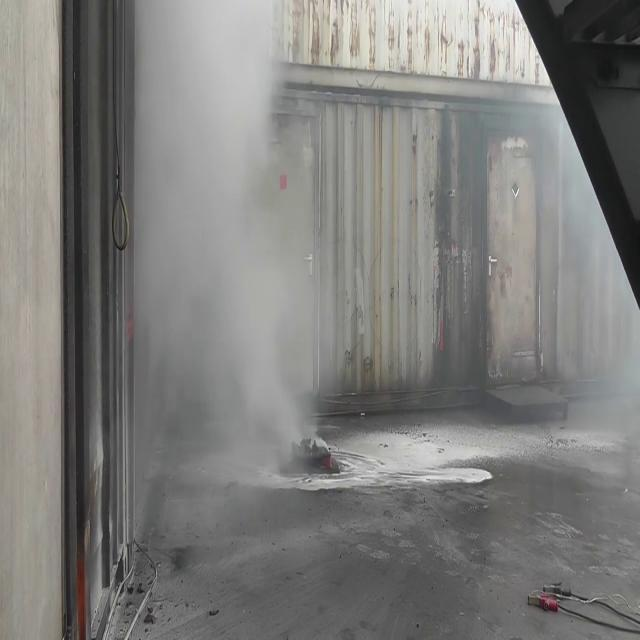Smoke: (134, 1, 330, 530)
